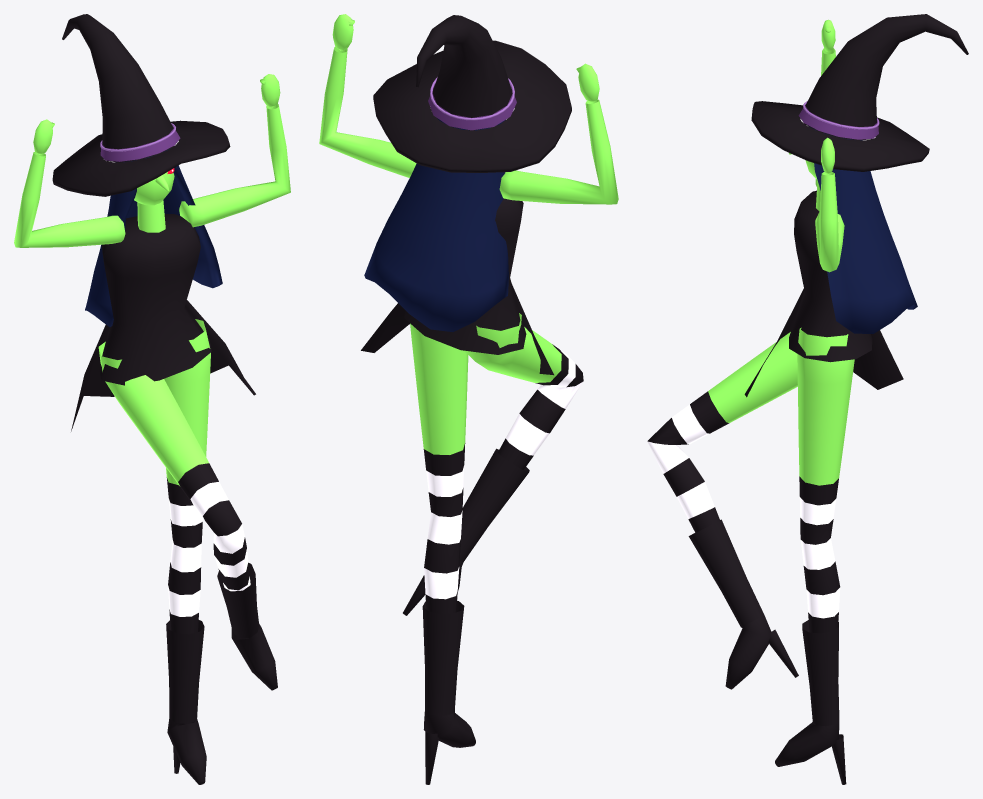
Rendered from witch_solo_b.glb.
3 views of the same model, side by side, from view 1: azimuth 30°, elevation 25°; view 2: azimuth 150°, elevation 25°; view 3: azimuth 270°, elevation 25° (orthographic). The views are drawn at different scales.
Visible parts, largest first — view 1: HWG_Witch_solo_b; view 2: HWG_Witch_solo_b; view 3: HWG_Witch_solo_b.
Part boxes in pixels (x1=…): HWG_Witch_solo_b: x1=14, y1=14, x2=290, y2=784; HWG_Witch_solo_b: x1=319, y1=14, x2=618, y2=784; HWG_Witch_solo_b: x1=647, y1=14, x2=968, y2=784.
Size of the model in its own units: 0.5231 by 1.35 by 0.53.
